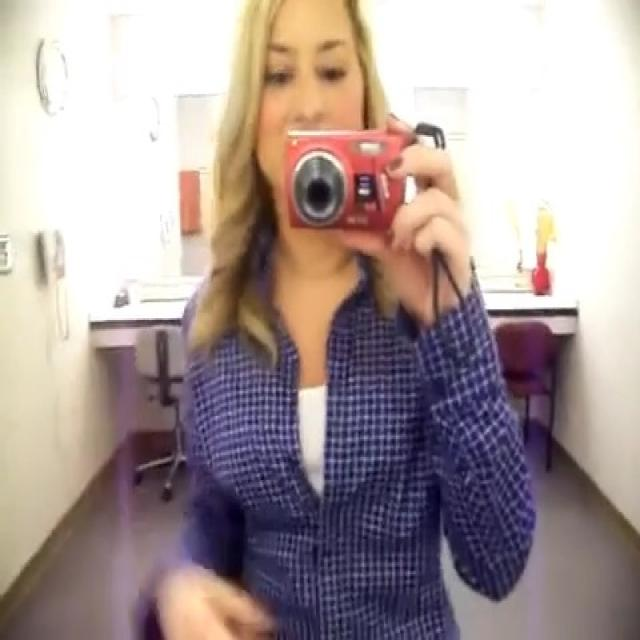shirt: (127, 226, 537, 640)
